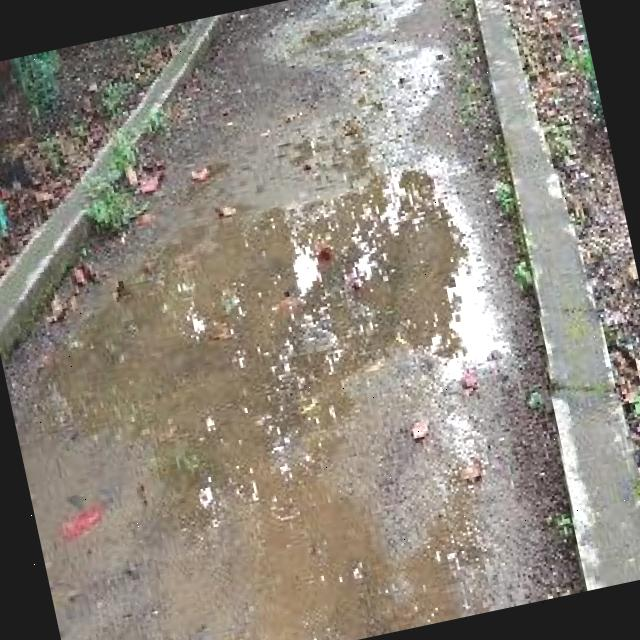stagnation: (90, 154, 512, 524)
